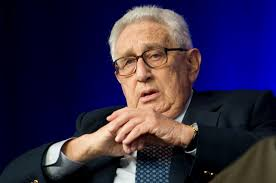middle_eastern_male: (114, 11, 193, 114)
